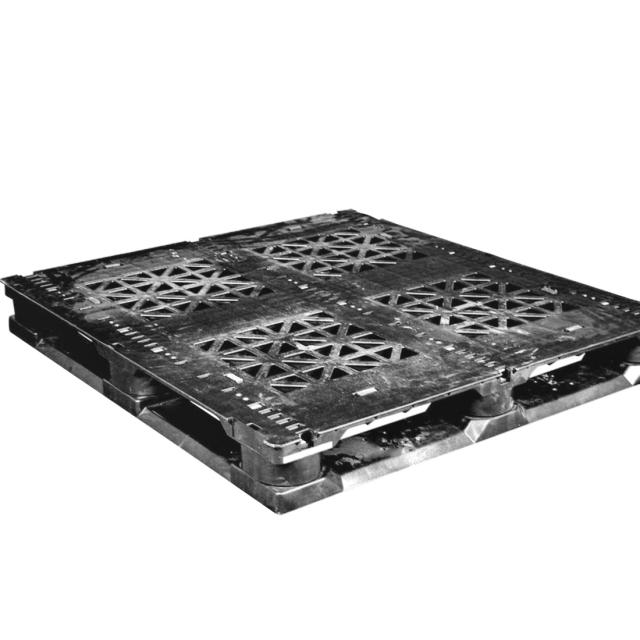non-igps: (2, 206, 640, 520)
